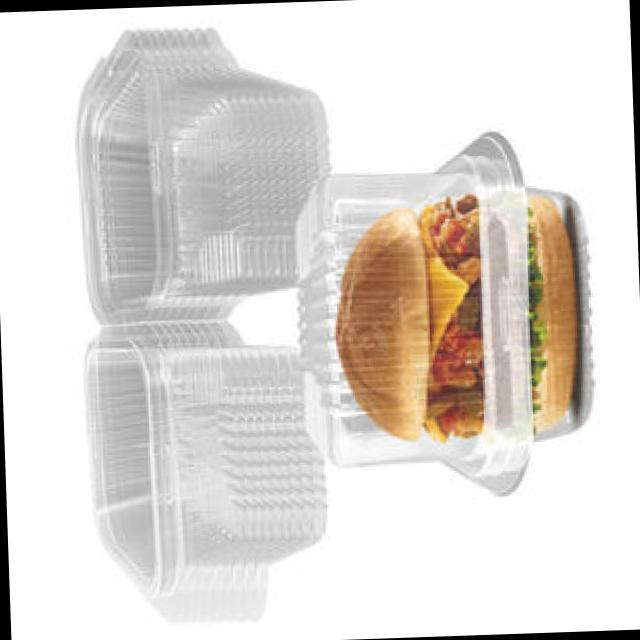glass: (290, 160, 598, 467), (56, 12, 336, 330), (56, 321, 340, 629)
